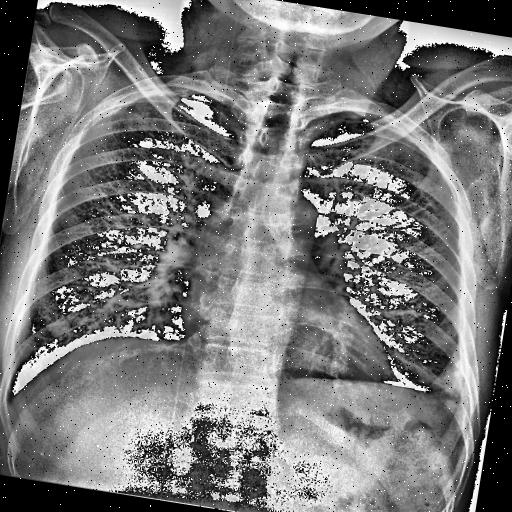10- Pleural effusion: (429, 369, 478, 425), (434, 358, 475, 420)
11- Pleural thickening: (90, 69, 180, 139), (85, 78, 177, 144), (93, 70, 186, 134), (428, 354, 482, 418), (378, 111, 443, 156), (377, 114, 441, 158), (429, 369, 478, 425), (434, 358, 475, 420)
13- Pulmonary fibrosis: (378, 350, 451, 390)
7- Lung Opacity: (434, 358, 475, 420)
